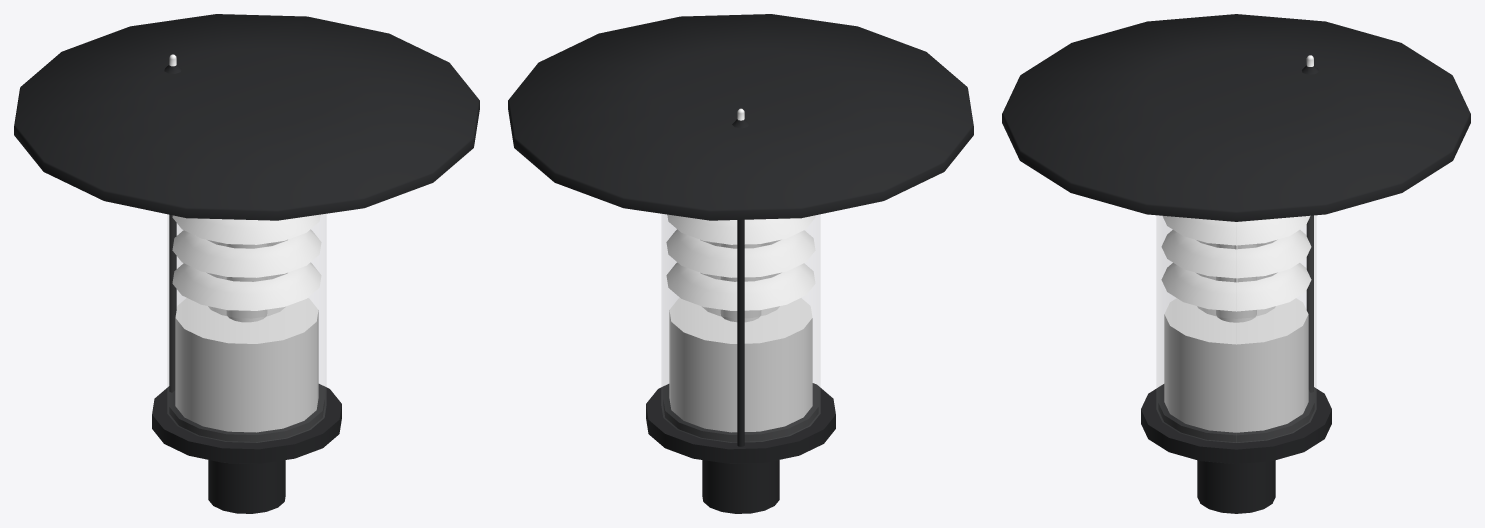
The model's file is Richard_IV.glb.
3 views of the same model, side by side, from view 1: azimuth 30°, elevation 25°; view 2: azimuth 150°, elevation 25°; view 3: azimuth 270°, elevation 25° (orthographic).
Visible parts, largest first — view 1: BezierCurve.001, Glas, BezierCurve.003; view 2: BezierCurve.001, Glas, BezierCurve.003; view 3: BezierCurve.001, Glas, BezierCurve.003.
Part boxes in pixels (bbox=[...]): BezierCurve.001: bbox=[14, 14, 479, 513]; Glas: bbox=[168, 214, 325, 442]; BezierCurve.003: bbox=[164, 54, 181, 392]; BezierCurve.001: bbox=[508, 14, 973, 513]; Glas: bbox=[662, 214, 819, 442]; BezierCurve.003: bbox=[732, 108, 749, 446]; BezierCurve.001: bbox=[1002, 14, 1470, 513]; Glas: bbox=[1157, 216, 1315, 442]; BezierCurve.003: bbox=[1234, 55, 1318, 392].
Size of the model in its own units: 0.599 by 0.5975 by 0.599.
6 materials, 4 textured.
